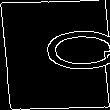O_W: (8, 32, 102, 78)
